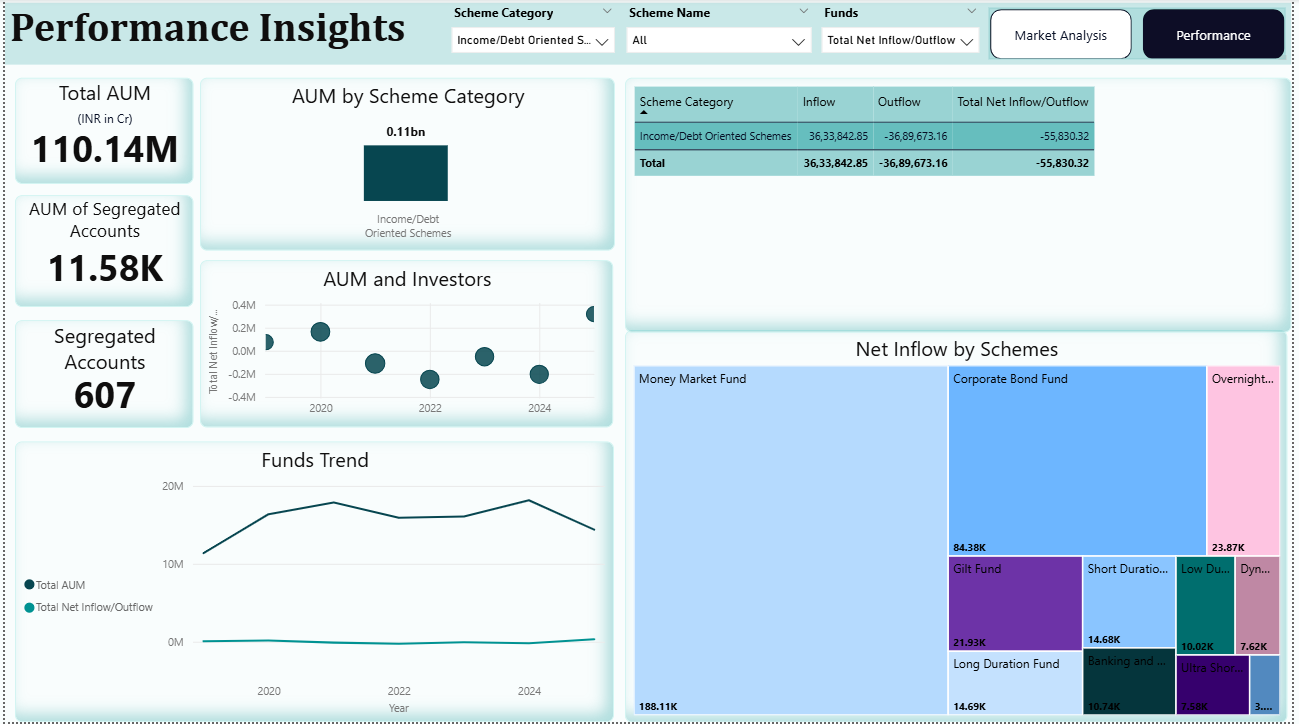

Layout of this report page (visuals, bound fields, positions):
{"tool":"powerbi","page":{"name":"Performance","canvas":[1280,720],"ordinal":1},"visuals":[{"type":"textbox","title":"Performance Insights","box":[0,4.2,1280.3,62],"z":0},{"type":"card","title":"Total AUM","fields":{"Values":["Mutual Funds(2019-2025).Total AUM"]},"box":[9.9,78.9,177.5,105.6],"z":1000},{"type":"clusteredColumnChart","title":"AUM by Scheme Category","fields":{"Category":["Mutual Funds(2019-2025).Scheme Category"],"Y":["Mutual Funds(2019-2025).Total AUM"]},"box":[194.4,78.9,412.7,171.8],"z":2000},{"type":"scatterChart","title":"AUM and Investors","fields":{"Y":["Mutual Funds(2019-2025).Total Funds Mobilized"],"Size":["Sum(Mutual Funds(2019-2025).No. of Folios)"],"X":["Custom Calendar.Date.Variation.Date Hierarchy.Year","Custom Calendar.Date.Variation.Date Hierarchy.Quarter","Custom Calendar.Date.Variation.Date Hierarchy.Month","Custom Calendar.Date.Variation.Date Hierarchy.Day"]},"box":[194.4,260.6,411.3,166.2],"z":3000},{"type":"treemap","title":"Net Inflow by Schemes","fields":{"Group":["Mutual Funds(2019-2025).Scheme Name"],"Values":["Mutual Funds(2019-2025).Total Net Inflow/Outflow"]},"box":[616.9,329.6,659.2,390.1],"z":4000},{"type":"lineChart","title":"Funds Trend","fields":{"Y":["Mutual Funds(2019-2025).Total AUM","Mutual Funds(2019-2025).Total Funds Mobilized","Mutual Funds(2019-2025).Total Redemption","Mutual Funds(2019-2025).Total AUM","Mutual Funds(2019-2025).Total Net Inflow/Outflow"],"Category":["Custom Calendar.Date.Variation.Date Hierarchy.Year"]},"box":[9.9,440.8,595.8,278.9],"z":5000},{"type":"card","title":"AUM of Segregated Accounts","fields":{"Values":["Mutual Funds(2019-2025).AUM"]},"box":[9.9,195.8,177.5,111.3],"z":6000},{"type":"card","title":"Segregated Accounts","fields":{"Values":["Mutual Funds(2019-2025).Total Segregated Portfolios"]},"box":[9.9,319.7,177.5,107],"z":7000},{"type":"tableEx","fields":{"Values":["Mutual Funds(2019-2025).Scheme Category","Mutual Funds(2019-2025).Inflow","Mutual Funds(2019-2025).Outflow","Mutual Funds(2019-2025).Total Funds Mobilized","Mutual Funds(2019-2025).Total Redemption","Mutual Funds(2019-2025).Total AUM","Mutual Funds(2019-2025).Total Net Inflow/Outflow"]},"box":[616.9,78.9,663.4,253.5],"z":8000},{"type":"slicer","fields":{"Values":["Mutual Funds(2019-2025).Scheme Category"]},"box":[434.7,0,182.7,69.3],"z":9000},{"type":"slicer","fields":{"Values":["Mutual Funds(2019-2025).Scheme Name"]},"box":[608,0,204,78.7],"z":10000},{"type":"slicer","fields":{"Values":["Funds.Funds"]},"box":[802.7,0,177.3,58.7],"z":11000},{"type":"pageNavigator","box":[979.4,8.8,295.6,51.5],"z":12000}]}

Visuals, with their boxes in screenshot pixels (x1, y1, x2, y2), scaled from the page's 1280x720 canvas onto the 1299x724 screenshot:
"Performance Insights" textbox: locate(0, 4, 1298, 67)
"Total AUM" card: locate(10, 79, 190, 186)
"AUM by Scheme Category" clusteredColumnChart: locate(197, 79, 616, 252)
"AUM and Investors" scatterChart: locate(197, 262, 615, 429)
"Net Inflow by Schemes" treemap: locate(626, 331, 1295, 723)
"Funds Trend" lineChart: locate(10, 443, 615, 723)
"AUM of Segregated Accounts" card: locate(10, 197, 190, 309)
"Segregated Accounts" card: locate(10, 321, 190, 429)
tableEx - Mutual Funds(2019-2025).Scheme Category x Mutual Funds(2019-2025).Inflow: locate(626, 79, 1298, 334)
slicer - Mutual Funds(2019-2025).Scheme Category: locate(441, 0, 627, 70)
slicer - Mutual Funds(2019-2025).Scheme Name: locate(617, 0, 824, 79)
slicer - Funds.Funds: locate(815, 0, 995, 59)
pageNavigator: locate(994, 9, 1294, 61)
